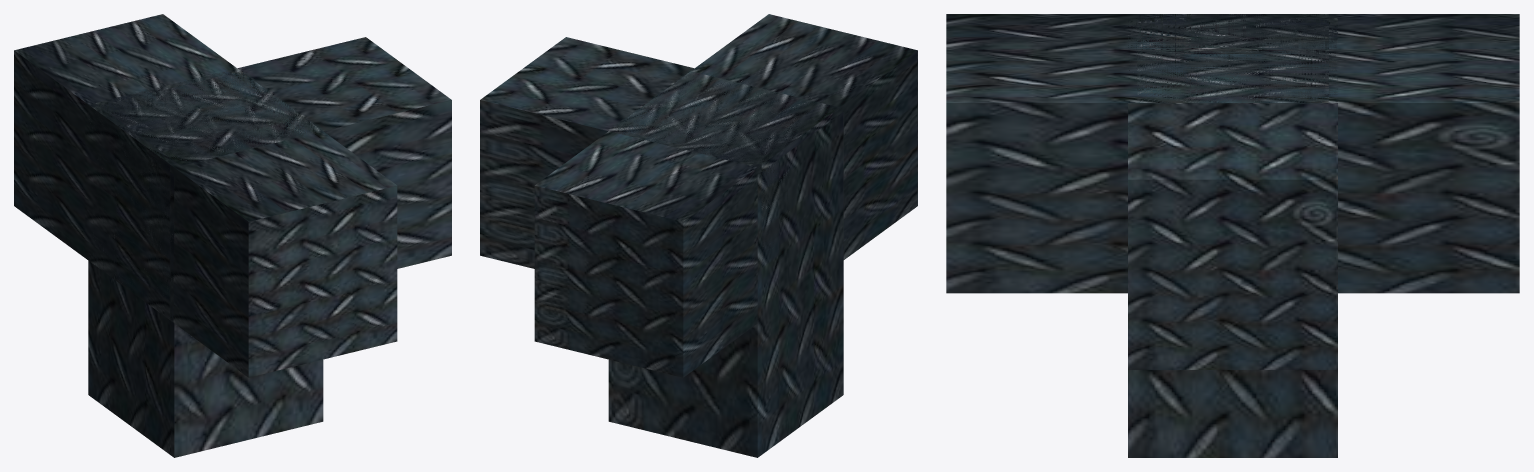
Rendered from _4entrees.glb.
3 views of the same model, side by side, from view 1: azimuth 30°, elevation 25°; view 2: azimuth 150°, elevation 25°; view 3: azimuth 270°, elevation 25° (orthographic). The views are drawn at different scales.
Visible parts, largest first — view 1: Cube.014, Cube.133, Cube.026, Cube.008; view 2: Cube.133, Cube.008, Cube.014, Cube.026; view 3: Cube.014, Cube.133, Cube.026, Cube.008.
Boxes of the visible parts, x1,y1,x2,y2 form: Cube.014: [92, 71, 397, 377]; Cube.133: [14, 14, 317, 319]; Cube.026: [95, 37, 451, 268]; Cube.008: [88, 119, 323, 457]; Cube.133: [534, 71, 839, 377]; Cube.008: [608, 112, 843, 457]; Cube.014: [613, 14, 917, 270]; Cube.026: [480, 37, 811, 268]; Cube.014: [946, 14, 1328, 293]; Cube.133: [1137, 14, 1519, 293]; Cube.026: [1128, 18, 1337, 369]; Cube.008: [1128, 370, 1337, 457].
Bounding box in the file's own units: 0.82 × 0.82 × 1.2.
Materials: 1 (1 with a texture image).
